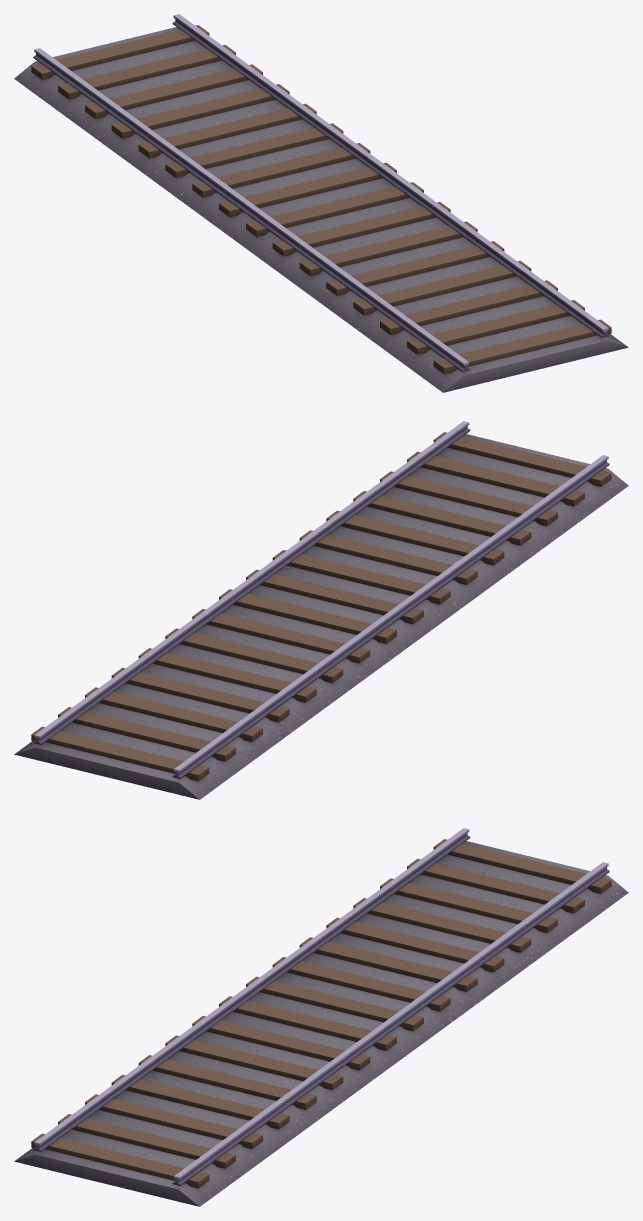
File: rail_32.fbx
3 renders of one model, top to bottom at view 1: azimuth 30°, elevation 25°; view 2: azimuth 150°, elevation 25°; view 3: azimuth 330°, elevation 25°, orthographic.
Parts seen in each view (by area): view 1: rail_32; view 2: rail_32; view 3: rail_32.
Part boxes in pixels (bbox=[...]): rail_32: bbox=[14, 14, 628, 392]; rail_32: bbox=[14, 421, 628, 799]; rail_32: bbox=[14, 828, 628, 1206].
Bounding box in the file's own units: 800 × 100 × 3200.
Materials: 1 (1 with a texture image).
